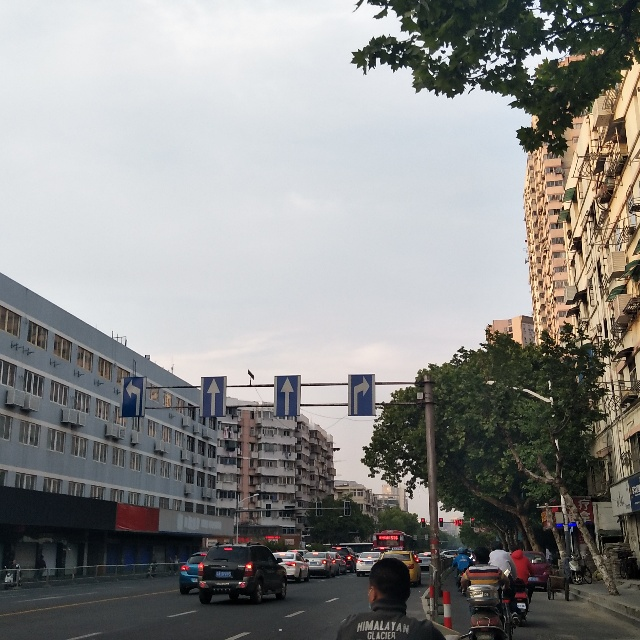left: (122, 377, 146, 417)
right: (349, 373, 375, 417)
straight: (200, 375, 225, 418), (276, 375, 299, 417)
